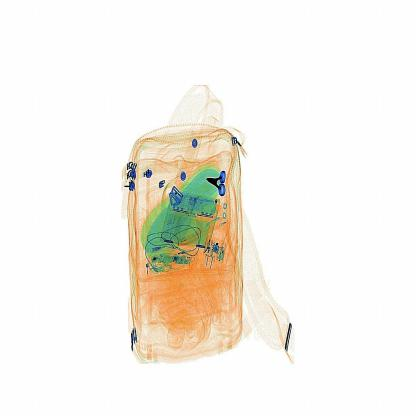gun: (200, 164, 243, 210)
